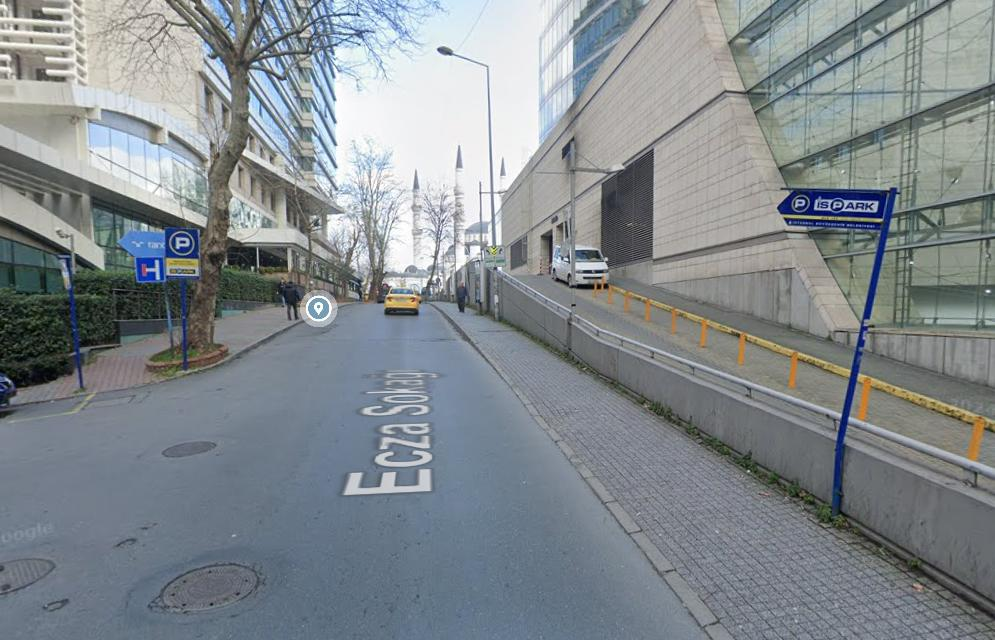park: (161, 225, 205, 279)
